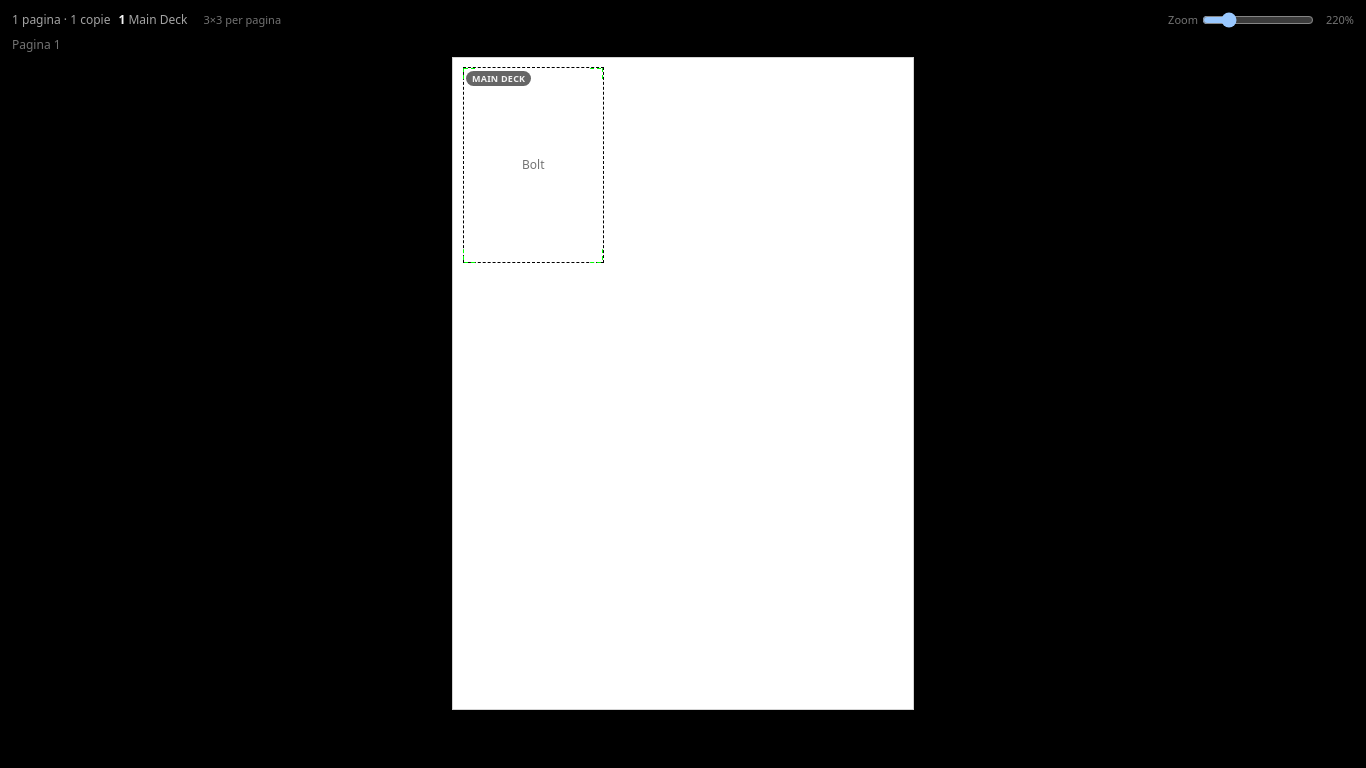
Test case: SheetsPreview guide + zoom › zoom cambia la larghezza pagina
Set the slider named "Zoom anteprima fogli" to "2" at (1268, 20), box [1202,12,1314,28]
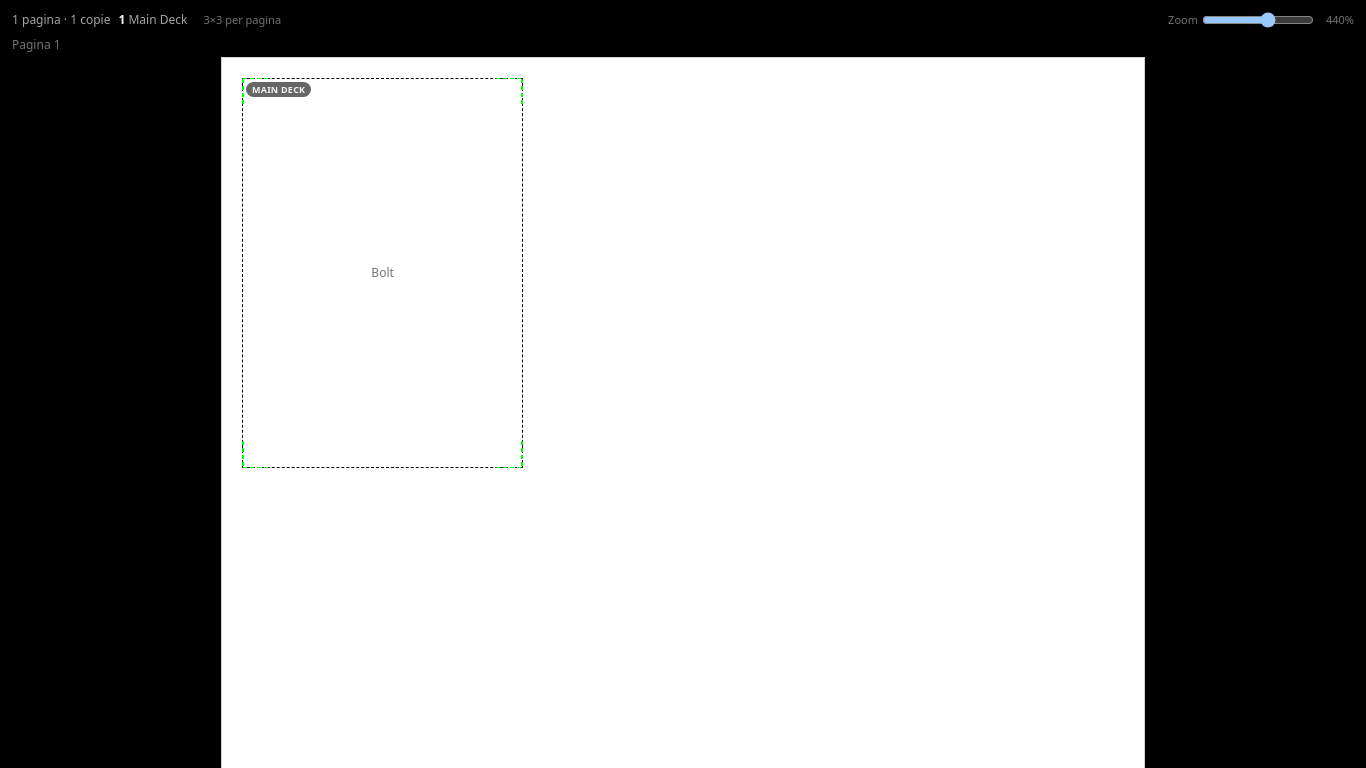
Expected: the text "440%" is shown, [1326,12,1354,27]
